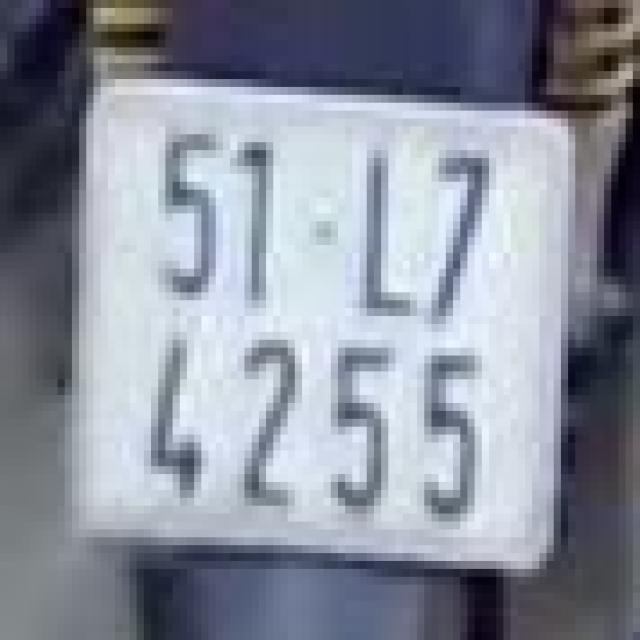1: (230, 115, 281, 312)
2: (233, 328, 306, 517)
4: (136, 332, 208, 521)
5: (144, 119, 223, 300), (417, 348, 489, 529), (331, 328, 395, 525)
7: (432, 134, 504, 332)
L: (356, 138, 421, 328)
